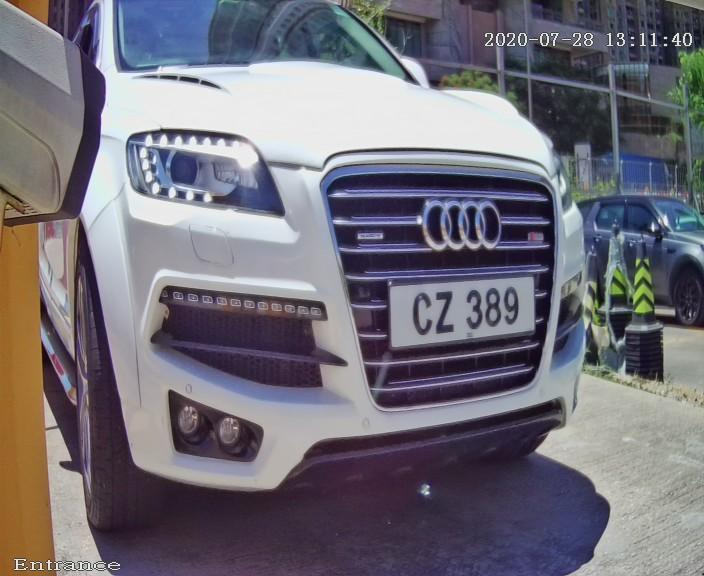privatecar: (19, 24, 667, 553)
